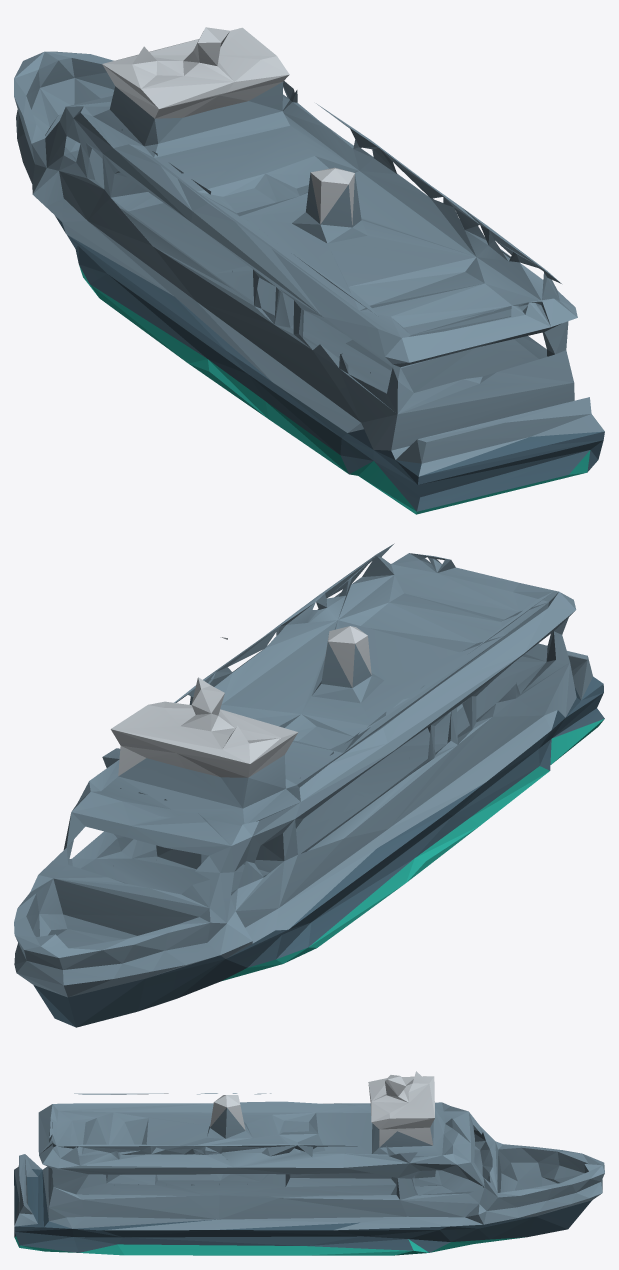
File: passenger.glb
3 views of the same model, one above another, from view 1: azimuth 30°, elevation 25°; view 2: azimuth 150°, elevation 25°; view 3: azimuth 270°, elevation 25° (orthographic). The views are drawn at different scales.
Visible parts, largest first — view 1: lod0; view 2: lod0; view 3: lod0.
Boxes of the visible parts, left/top/right/bottom form: lod0: left=14, top=27, right=604, bottom=514; lod0: left=14, top=543, right=604, bottom=1027; lod0: left=14, top=1071, right=604, bottom=1255.
Size of what is drawn, in the model's own units: 0.2613 by 0.3128 by 0.9927.
